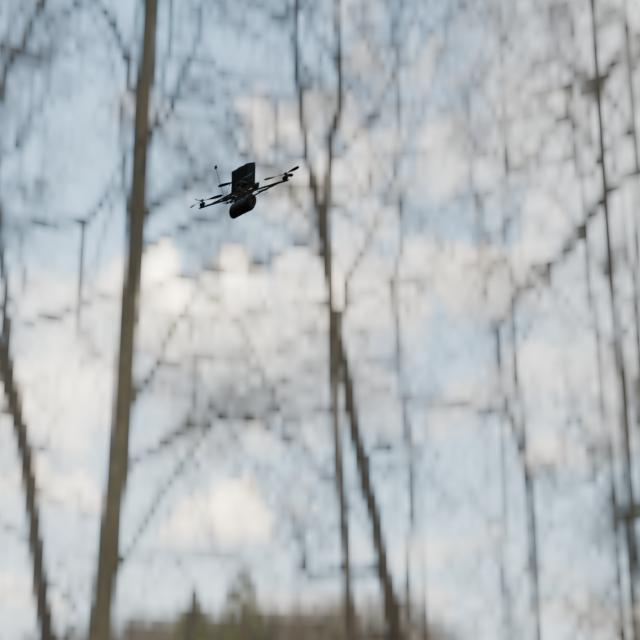drone: (190, 162, 299, 219)
